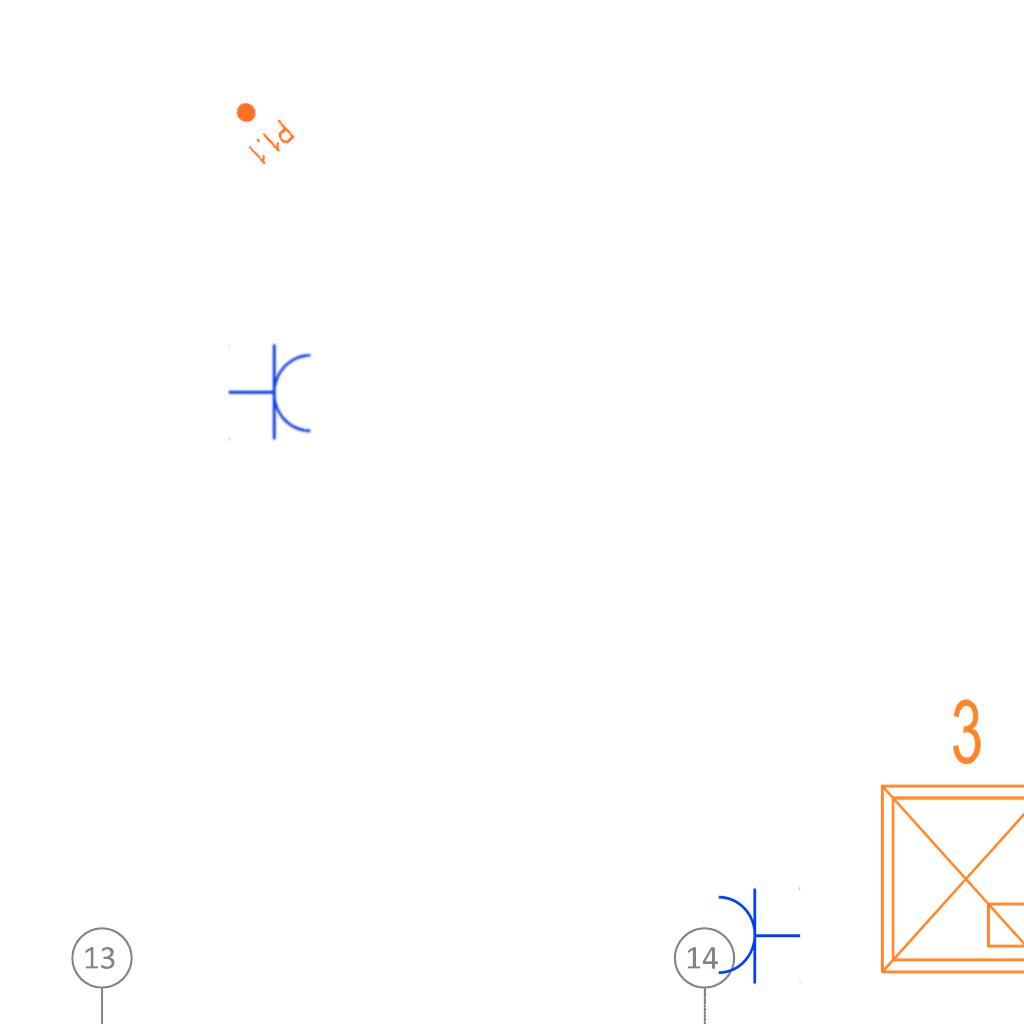Downlight_LED_Einbauleuchten_Flur: (220, 89, 298, 169)
Einbaudownlights_LED_Konferenzraeume: (858, 688, 1024, 988)
Schukosteckdose_einfach: (228, 343, 315, 443), (714, 885, 801, 985)
